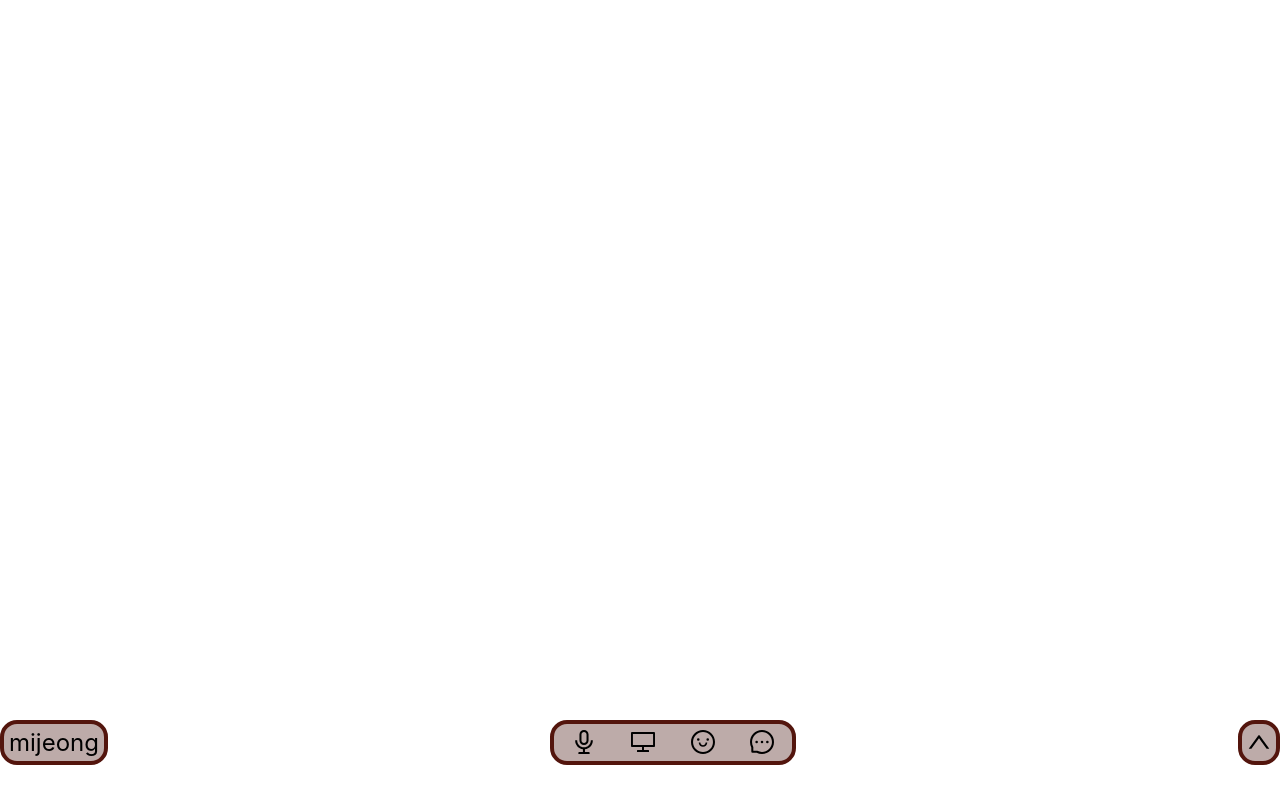
Test case: Navigator test › 음성 세팅 아이콘을 누르면 음성세팅 창이 떠야함.
Click the picture named "smile": (703, 742) [691,730,715,754]
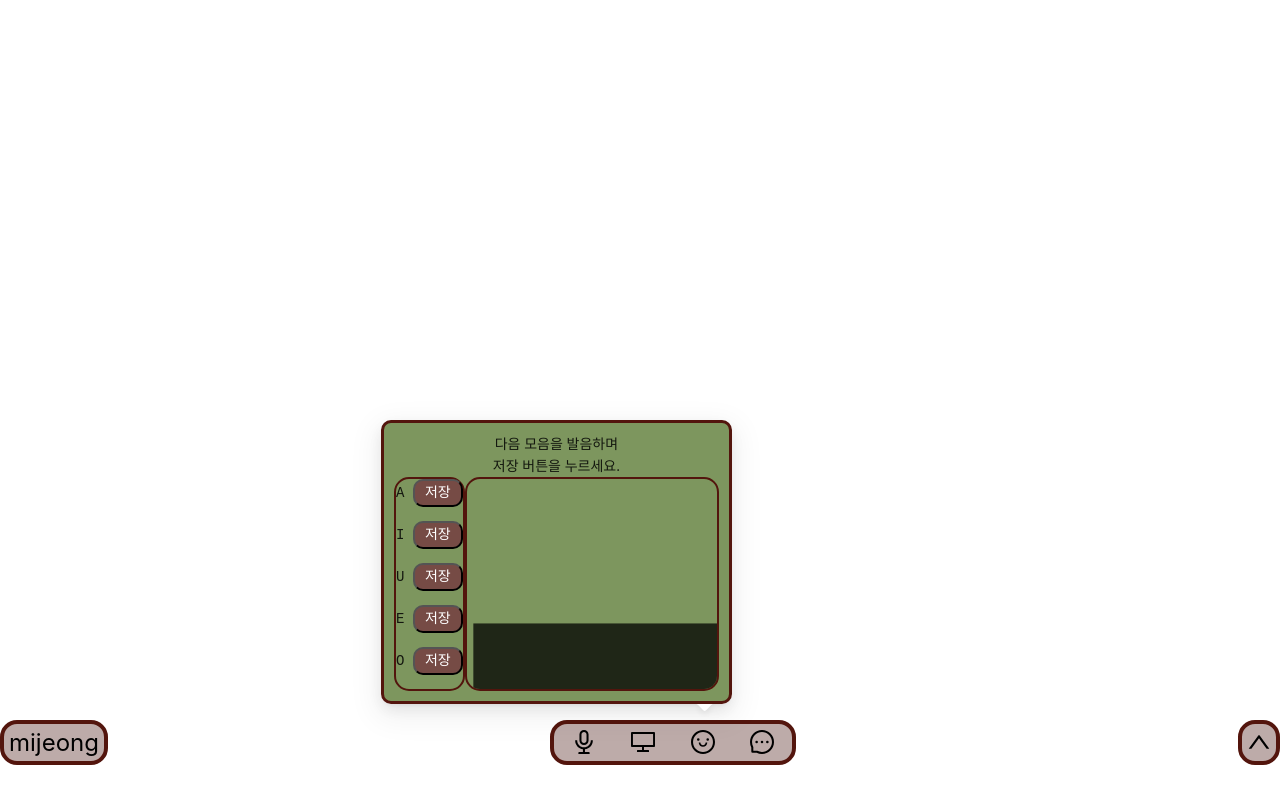
Now the text "다음 모음을 발음하며 저장 버튼을 누르세요." is shown, box [493,435,620,474]
